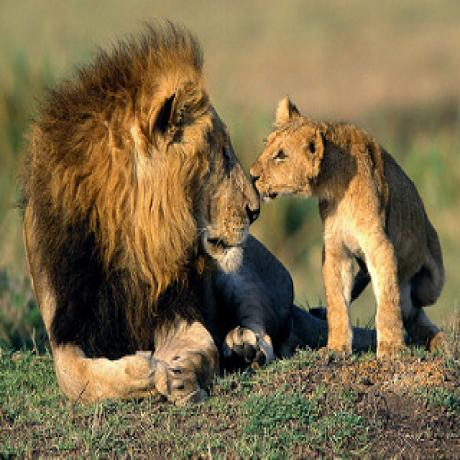Lion: (23, 31, 260, 408), (253, 90, 445, 376)
